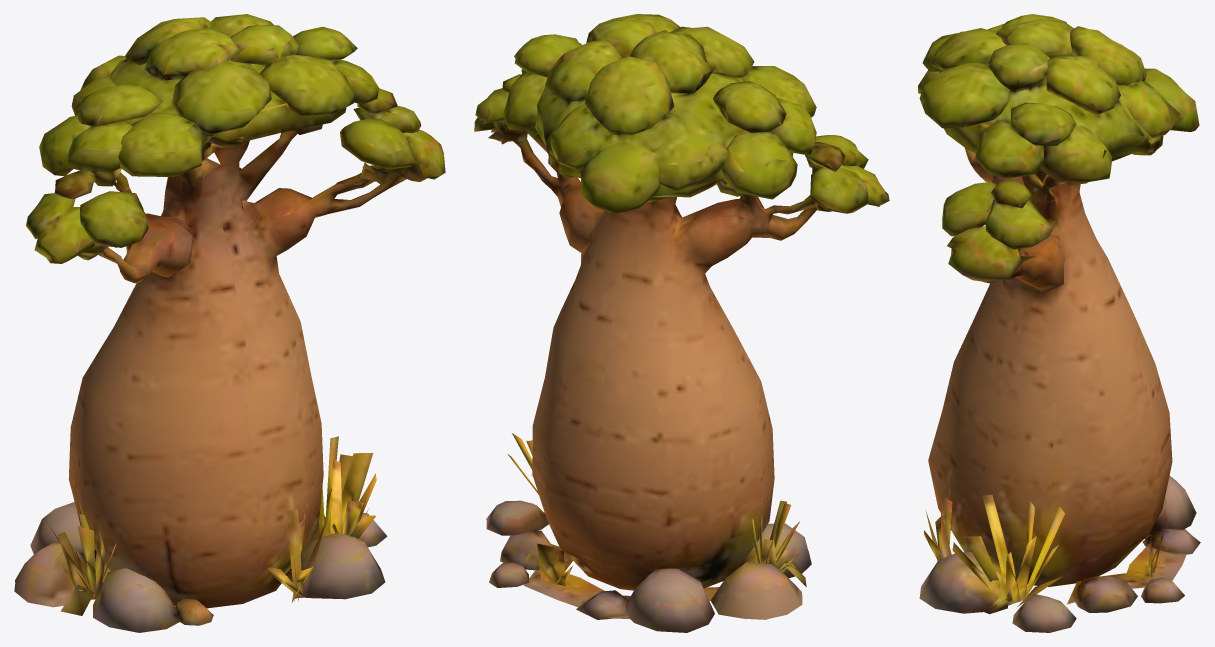
File: tree_03.glb
The picture shows the model from 3 angles, left to right: view 1: azimuth 30°, elevation 25°; view 2: azimuth 150°, elevation 25°; view 3: azimuth 270°, elevation 25°; orthographic projection. The views are drawn at different scales.
Visible parts, largest first — view 1: tree_03; view 2: tree_03; view 3: tree_03.
Part boxes in pixels (left/top/right/bottom): tree_03: left=14, top=14, right=445, bottom=632; tree_03: left=474, top=14, right=889, bottom=632; tree_03: left=918, top=14, right=1200, bottom=632.
Size of the model in its own units: 7.93 by 10 by 4.86.
1 material, 1 textured.
